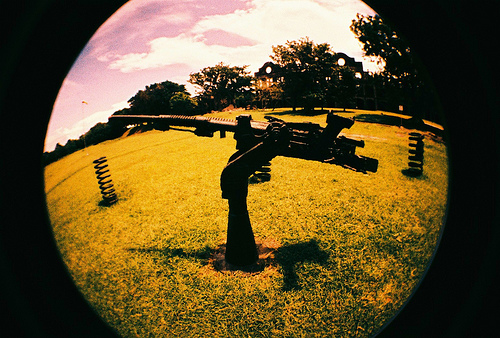rifle: (100, 80, 406, 258)
